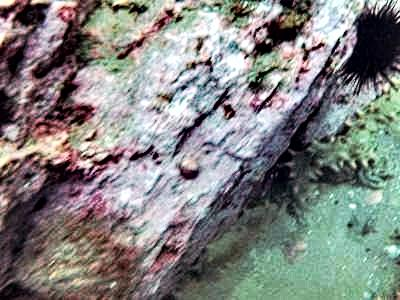urchin: (333, 1, 395, 93)
